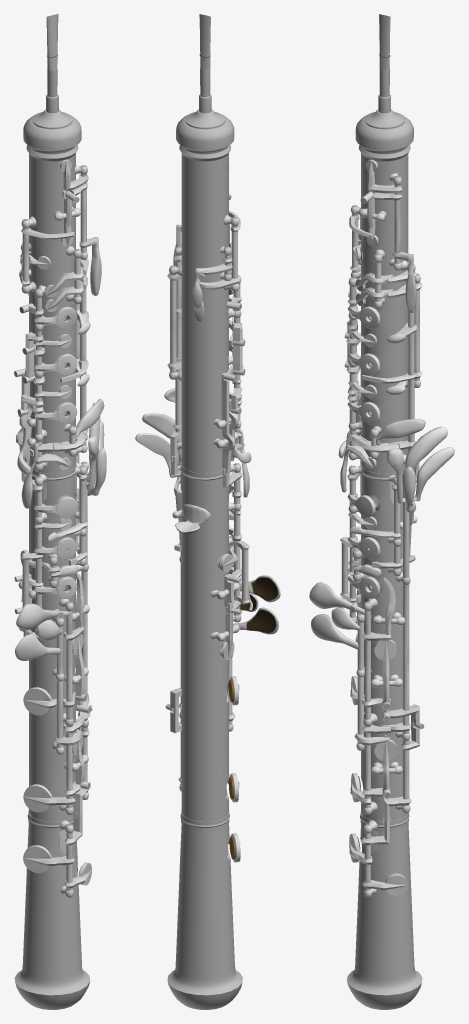
The model's file is oboe-howarth-s20c.glb.
The picture shows the model from 3 angles, left to right: view 1: azimuth 30°, elevation 25°; view 2: azimuth 150°, elevation 25°; view 3: azimuth 330°, elevation 25°; orthographic projection.
Parts seen in each view (by area): view 1: Oboe_Base_My_Oboe_0_lower_joint, Oboe_Base_My_Oboe_0_top_joint, Oboe_Base_My_Oboe_0_bell, polySurface9, RodCorner1, PadAndRod14, polySurface4, Rod2, polySurface13, PadAndRod28, polySurface14, PadAndRod31 (+27 smaller); view 2: Oboe_Base_My_Oboe_0_lower_joint, Oboe_Base_My_Oboe_0_top_joint, Oboe_Base_My_Oboe_0_bell, PadAndRod14, polySurface9, polySurface13, polySurface5, Rod33, Rod43, PadAndRod37, Weird_Key1, polySurface7 (+9 smaller); view 3: Oboe_Base_My_Oboe_0_lower_joint, Oboe_Base_My_Oboe_0_bell, Oboe_Base_My_Oboe_0_top_joint, polySurface13, polySurface9, polySurface4, RodCorner1, PadAndRod14, Rod2, polySurface2, polySurface12, RodCorner4 (+23 smaller).
Boxes of the visible parts, x1=… form: Oboe_Base_My_Oboe_0_lower_joint: x1=23, y1=167, x2=79, y2=975; Oboe_Base_My_Oboe_0_top_joint: x1=23, y1=14, x2=81, y2=233; Oboe_Base_My_Oboe_0_bell: x1=14, y1=885, x2=90, y2=1009; polySurface9: x1=16, y1=603, x2=75, y2=719; RodCorner1: x1=23, y1=812, x2=91, y2=890; PadAndRod14: x1=14, y1=518, x2=77, y2=607; polySurface4: x1=60, y1=159, x2=101, y2=296; Rod2: x1=23, y1=718, x2=84, y2=812; polySurface13: x1=81, y1=420, x2=104, y2=696; PadAndRod28: x1=19, y1=297, x2=77, y2=379; polySurface14: x1=21, y1=441, x2=71, y2=508; PadAndRod31: x1=22, y1=332, x2=71, y2=383; Oboe_Base_My_Oboe_0_lower_joint: x1=175, y1=165, x2=234, y2=976; Oboe_Base_My_Oboe_0_top_joint: x1=176, y1=14, x2=234, y2=233; Oboe_Base_My_Oboe_0_bell: x1=167, y1=883, x2=242, y2=1009; PadAndRod14: x1=227, y1=510, x2=249, y2=604; polySurface9: x1=227, y1=575, x2=280, y2=705; polySurface13: x1=135, y1=433, x2=181, y2=688; polySurface5: x1=193, y1=210, x2=240, y2=321; Rod33: x1=175, y1=255, x2=181, y2=442; Rod43: x1=221, y1=373, x2=235, y2=474; PadAndRod37: x1=167, y1=273, x2=181, y2=372; Weird_Key1: x1=233, y1=607, x2=278, y2=634; polySurface7: x1=191, y1=242, x2=232, y2=308; Oboe_Base_My_Oboe_0_lower_joint: x1=355, y1=169, x2=413, y2=977; Oboe_Base_My_Oboe_0_bell: x1=347, y1=888, x2=422, y2=1009; Oboe_Base_My_Oboe_0_top_joint: x1=355, y1=14, x2=413, y2=503; polySurface13: x1=387, y1=447, x2=454, y2=710; polySurface9: x1=309, y1=582, x2=390, y2=719; polySurface4: x1=365, y1=159, x2=416, y2=312; RodCorner1: x1=349, y1=818, x2=407, y2=896; PadAndRod14: x1=340, y1=512, x2=380, y2=602; Rod2: x1=350, y1=724, x2=390, y2=808; polySurface2: x1=357, y1=419, x2=425, y2=452; polySurface12: x1=381, y1=426, x2=447, y2=733; RodCorner4: x1=384, y1=721, x2=419, y2=820.
Size of the model in its own units: 0.0833 by 0.6769 by 0.0573.
1 material, 1 textured.
